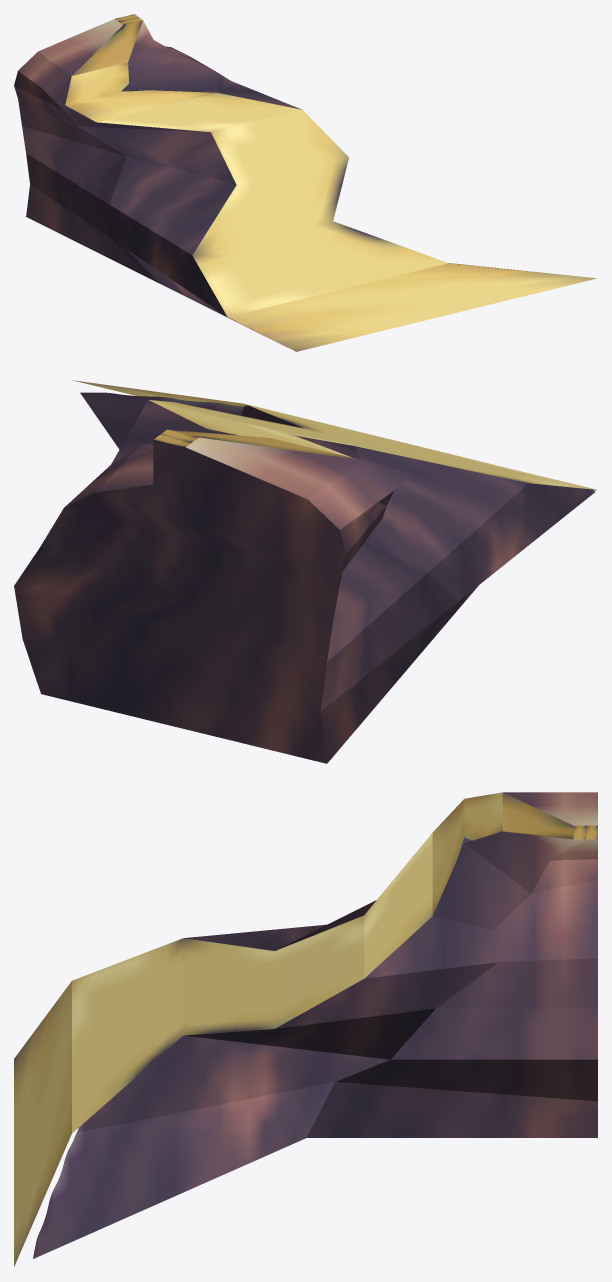
File: Poly_World_Map_Trail_01.obj
3 views of the same model, one above another, from view 1: azimuth 30°, elevation 25°; view 2: azimuth 150°, elevation 25°; view 3: azimuth 270°, elevation 25° (orthographic). The views are drawn at different scales.
Visible parts, largest first — view 1: Grid.002; view 2: Grid.002; view 3: Grid.002.
Boxes of the visible parts, x1,y1,x2,y2 form: Grid.002: (14,14,596,351); Grid.002: (14,380,596,763); Grid.002: (14,792,597,1266).
Bounding box in the file's own units: 0.94 × 0.419 × 0.887.
1 material, 1 textured.
